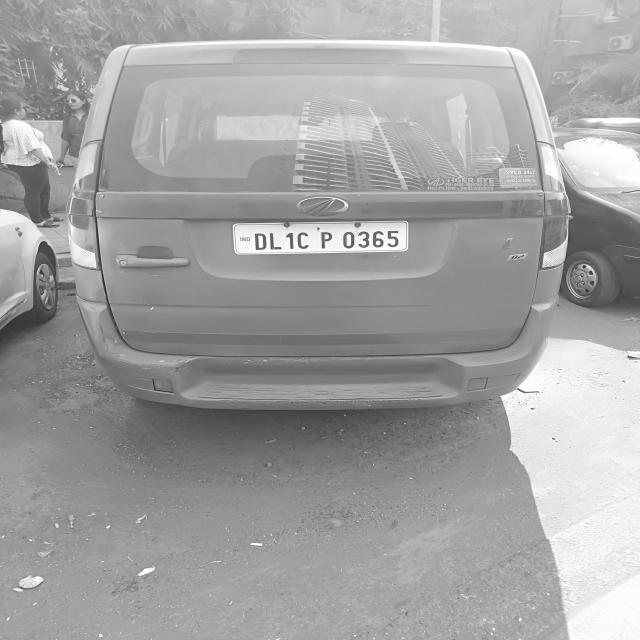car: (55, 42, 564, 416)
license-plate: (232, 218, 410, 257)
